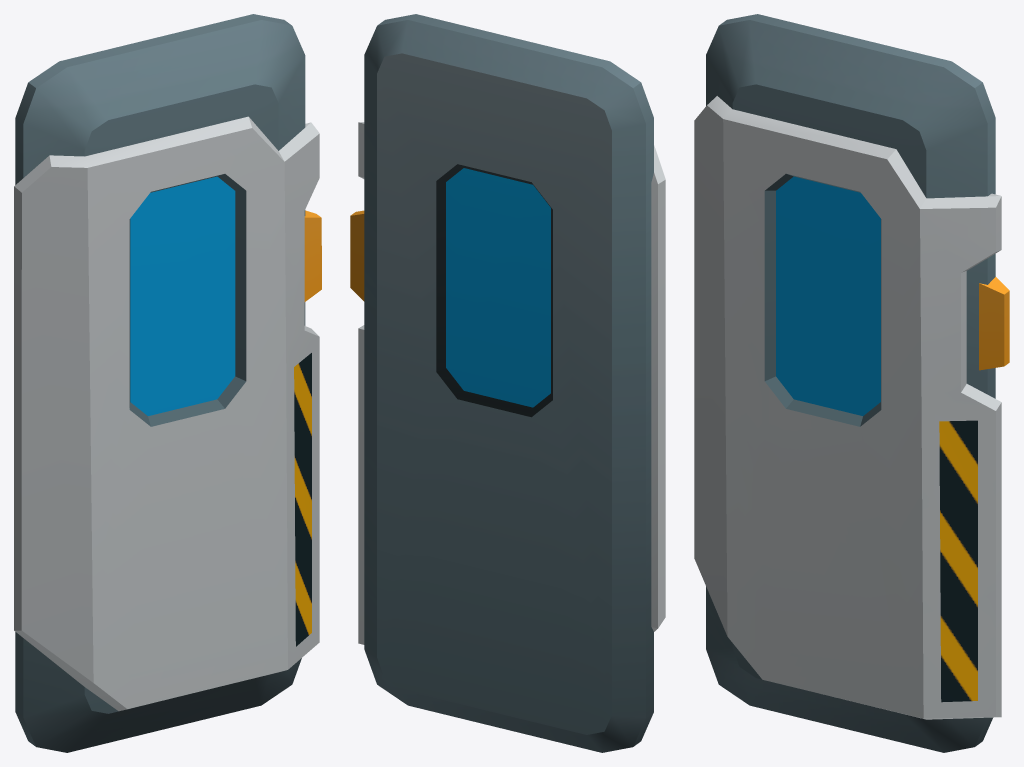
File: Door_panel_002.fbx
The picture shows the model from 3 angles, left to right: view 1: azimuth 30°, elevation 25°; view 2: azimuth 150°, elevation 25°; view 3: azimuth 330°, elevation 25°; orthographic projection.
Parts seen in each view (by area): view 1: Door_panel_002; view 2: Door_panel_002; view 3: Door_panel_002.
Boxes of the visible parts, box(x1,y1,x2,y2) form: Door_panel_002: box(14, 14, 321, 752); Door_panel_002: box(350, 14, 665, 752); Door_panel_002: box(694, 14, 1009, 752).
Size of the model in its own units: 121 by 29.54 by 260.
